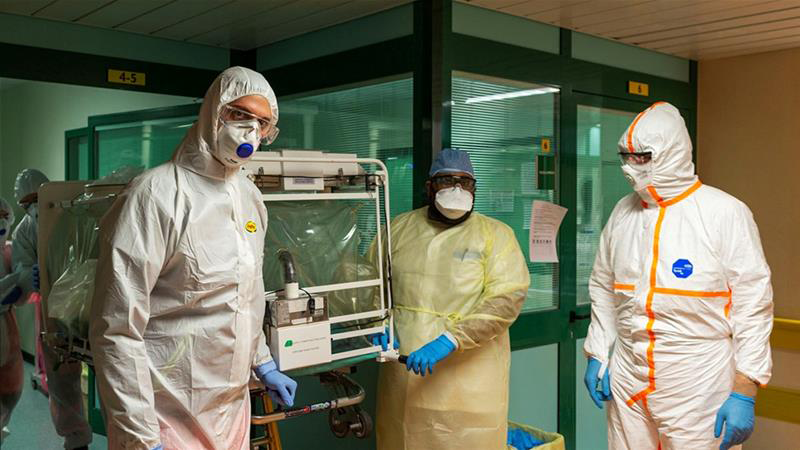Coverall: (90, 65, 278, 449), (581, 103, 774, 447), (372, 213, 530, 448), (6, 168, 88, 447)
Gloves: (404, 328, 468, 378), (244, 353, 298, 408), (713, 382, 758, 448), (583, 344, 615, 410), (505, 428, 545, 449), (369, 331, 402, 348)
Goggles: (215, 104, 281, 148), (431, 173, 480, 195), (614, 148, 655, 167)
with_mask: (218, 108, 271, 165), (436, 179, 473, 221), (621, 151, 656, 194), (19, 195, 39, 219)
